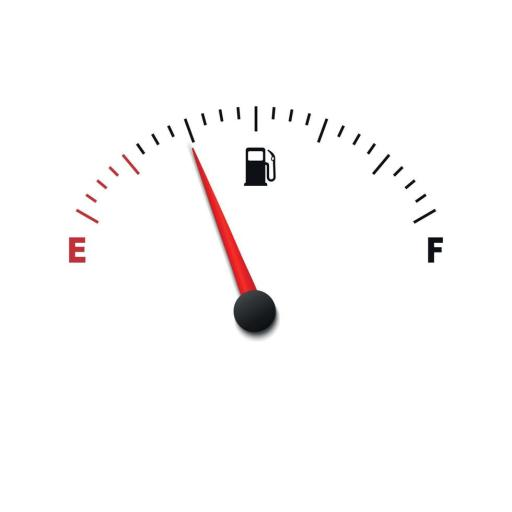empty: (66, 230, 88, 266)
fuel_icon: (243, 142, 275, 189)
full: (422, 231, 446, 268)
guage_area: (33, 84, 463, 368)
needle_center: (231, 281, 278, 343)
needle_tip: (180, 142, 217, 189)
